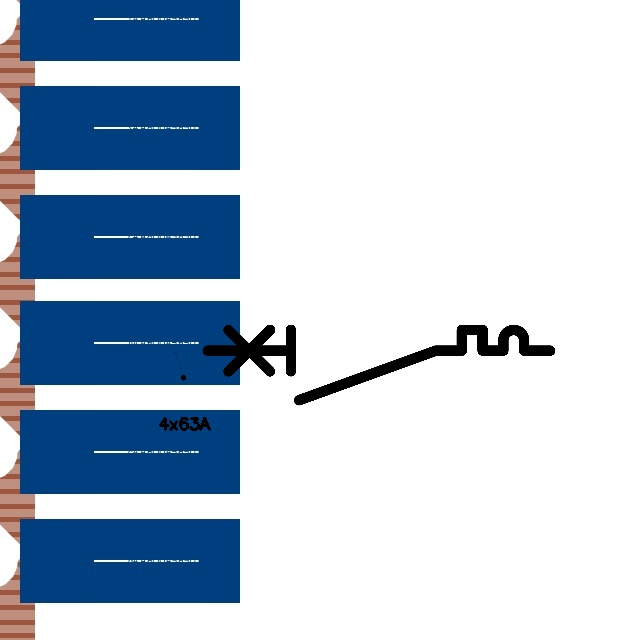interruptor_termomagnetico: (198, 321, 558, 409)
